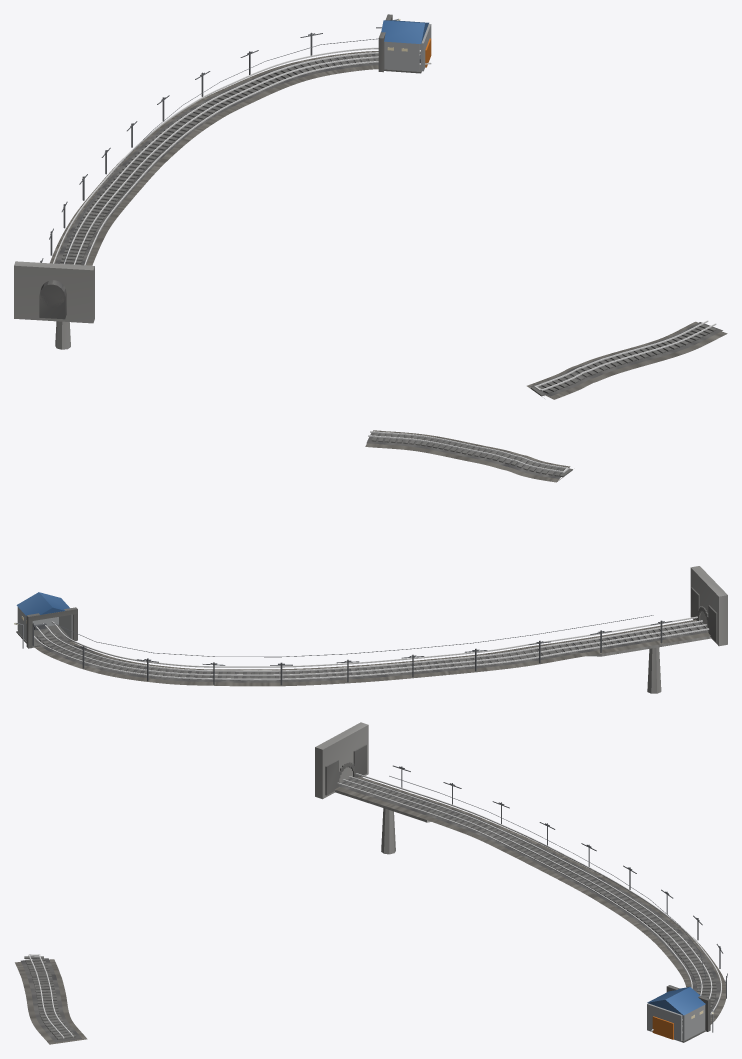
Rendered from Rail_P3.fbx.
3 renders of one model, top to bottom at view 1: azimuth 30°, elevation 25°; view 2: azimuth 150°, elevation 25°; view 3: azimuth 270°, elevation 25°, orthographic. The views are drawn at different scales.
Parts seen in each view (by area): view 1: Rail.Portal, Rail.Sleepers, Rail.Bed, Rail.Ballast, Rail.Shed, RailPort.Sleepers, RailPort.Ballast, RailPort.Bed, Rail.Rail.003, Rail.Rail.002, Rail.Rail.001, Rail.Rail (+1 smaller); view 2: Rail.Ballast, Rail.Bed, Rail.Sleepers, Rail.Shed, Rail.Portal, RailPort.Sleepers, Rail.Rail.003, Rail.Rail.002, Rail.Rail.001, Rail.Rail, RailPort.Ballast, RailPort.Bed (+5 smaller); view 3: Rail.Sleepers, Rail.Bed, Rail.Ballast, Rail.Portal, Rail.Shed, RailPort.Sleepers, RailPort.Ballast, Rail.Rail.003, Rail.Rail.002, Rail.Rail.001, RailPort.Bed, Rail.Rail (+2 smaller).
Boxes of the visible parts, x1,y1,x2,y2 form: Rail.Portal: [14, 261, 94, 323]; Rail.Sleepers: [59, 53, 378, 264]; Rail.Bed: [55, 53, 378, 265]; Rail.Ballast: [50, 51, 378, 265]; Rail.Shed: [378, 14, 431, 73]; RailPort.Sleepers: [530, 323, 716, 396]; RailPort.Ballast: [527, 321, 727, 399]; RailPort.Bed: [530, 322, 722, 396]; Rail.Rail.003: [53, 47, 420, 263]; Rail.Rail.002: [64, 52, 420, 264]; Rail.Rail.001: [74, 56, 378, 264]; Rail.Rail: [84, 61, 431, 265]; Rail.Ballast: [34, 619, 710, 686]; Rail.Bed: [34, 620, 708, 682]; Rail.Sleepers: [36, 622, 707, 680]; Rail.Shed: [16, 592, 77, 648]; Rail.Portal: [690, 566, 727, 646]; RailPort.Sleepers: [371, 433, 572, 477]; Rail.Rail.003: [34, 628, 709, 680]; Rail.Rail.002: [36, 624, 706, 675]; Rail.Rail.001: [43, 620, 702, 671]; Rail.Rail: [52, 616, 697, 667]; RailPort.Ballast: [365, 430, 570, 482]; RailPort.Bed: [366, 432, 568, 478]; Rail.Sleepers: [340, 778, 716, 1030]; Rail.Bed: [338, 777, 720, 1031]; Rail.Ballast: [335, 776, 725, 1024]; Rail.Portal: [315, 722, 368, 799]; Rail.Shed: [647, 985, 710, 1042]; RailPort.Sleepers: [24, 956, 76, 1039]; RailPort.Ballast: [15, 959, 87, 1044]; Rail.Rail.003: [355, 773, 721, 1032]; Rail.Rail.002: [348, 776, 712, 1026]; Rail.Rail.001: [342, 779, 702, 1020]; RailPort.Bed: [20, 958, 81, 1042]; Rail.Rail: [337, 782, 692, 1031].
Bounding box in the file's own units: 22043 × 3836 × 24839.
